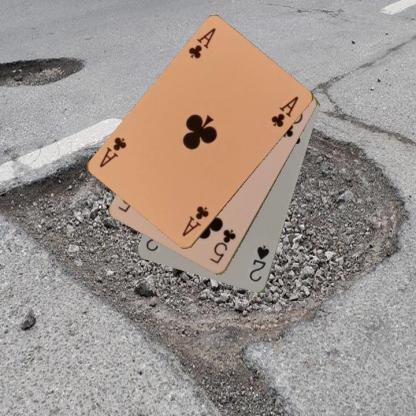2s: (247, 243, 271, 284)
5c: (207, 227, 237, 265)
Ac: (186, 25, 218, 60), (179, 203, 210, 238)
